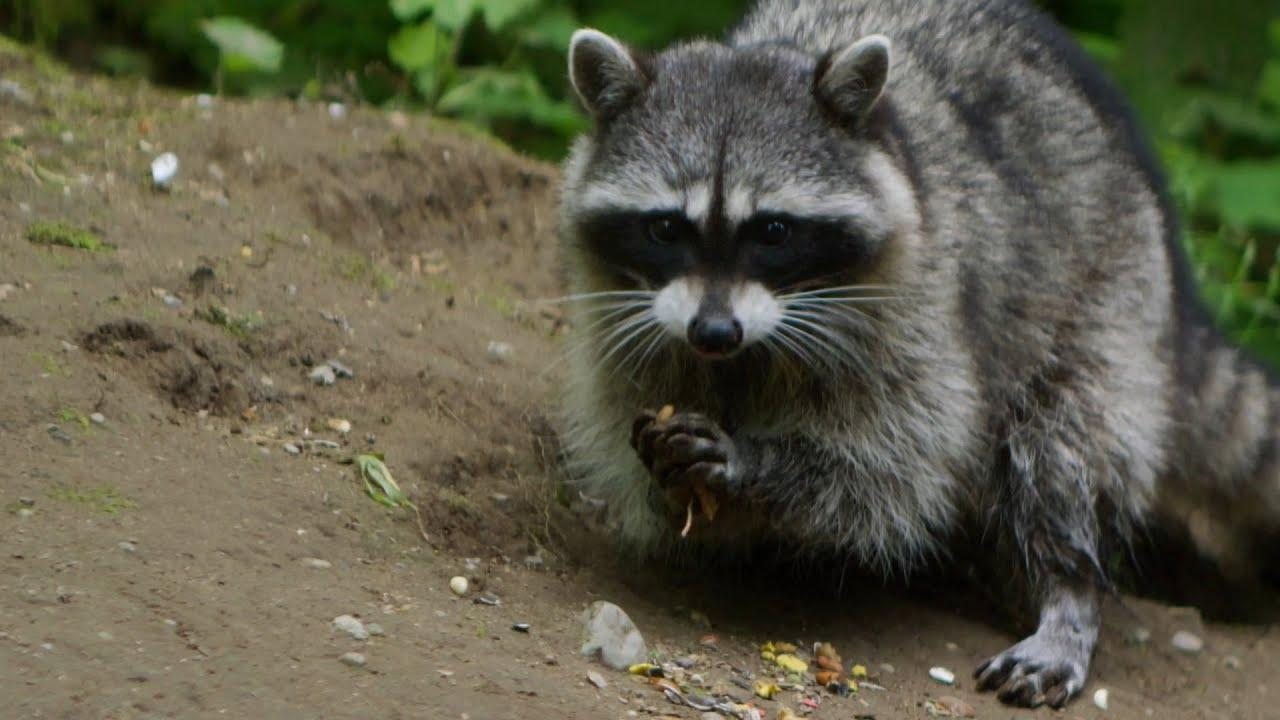raccoon: (560, 0, 1280, 707)
